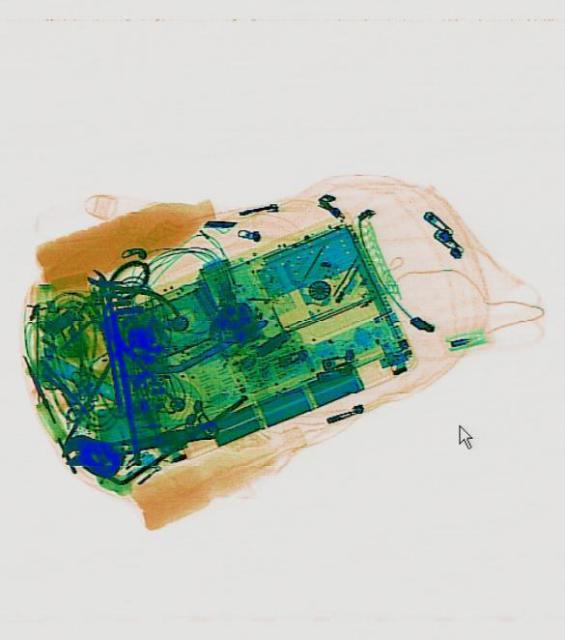Pliers: (68, 245, 185, 362)
Wrench: (57, 410, 218, 472)
